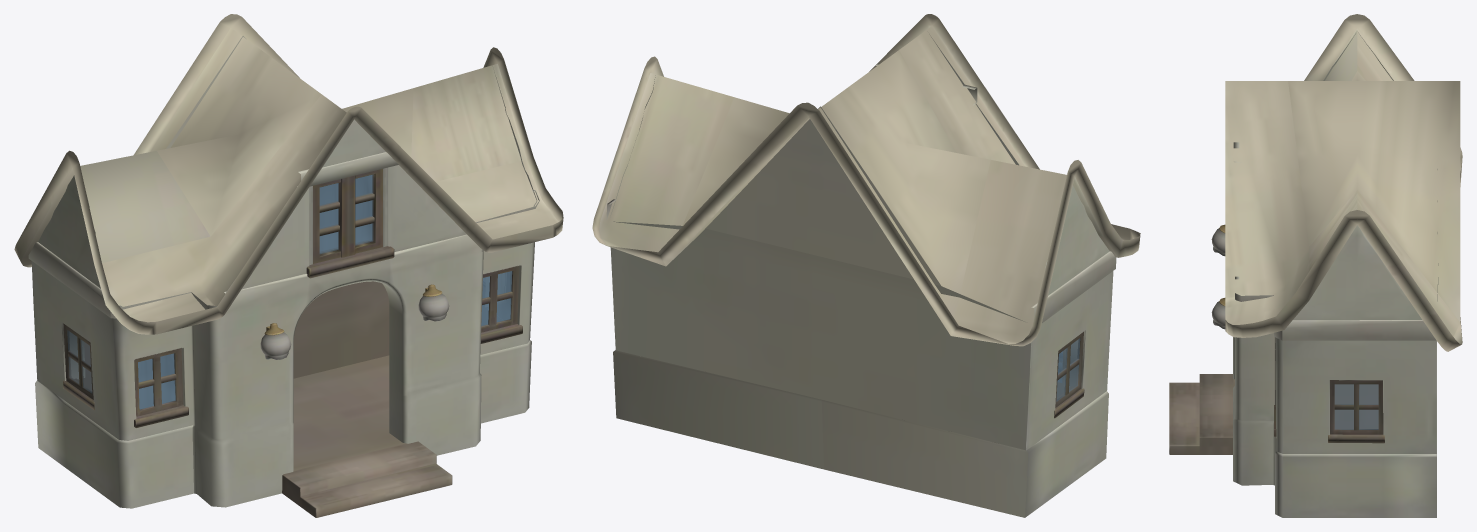
File: wall-pa04-stucco.glb
3 views of the same model, side by side, from view 1: azimuth 30°, elevation 25°; view 2: azimuth 150°, elevation 25°; view 3: azimuth 270°, elevation 25° (orthographic). The views are drawn at different scales.
Bounding box in the file's own units: 48.63 × 39.91 × 29.55.
Materials: 7 (3 with a texture image).
